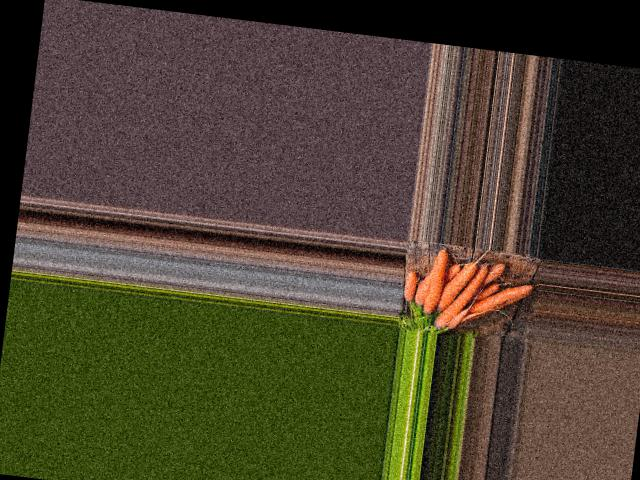carrot: (468, 275, 531, 319)
